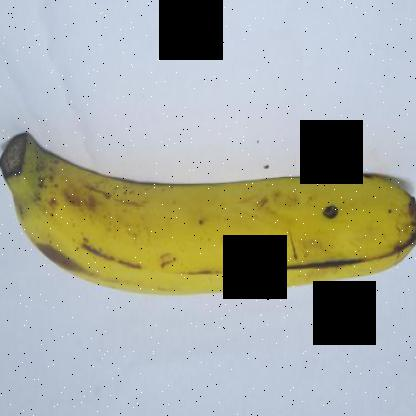ripe: (13, 133, 415, 302)
